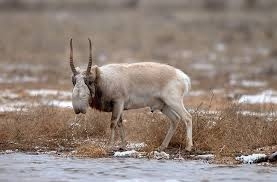saiga: (68, 37, 197, 153)
